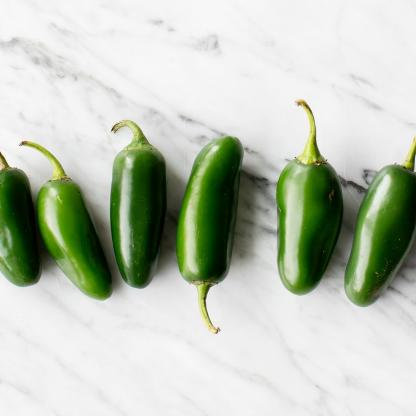--: (175, 112, 250, 334), (276, 90, 342, 298), (100, 113, 168, 292)
